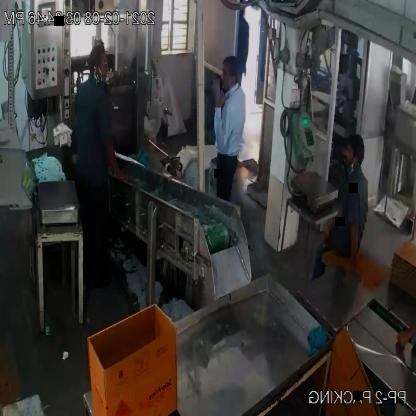no_glove: (318, 197, 343, 260), (104, 132, 130, 188), (346, 200, 363, 280), (211, 80, 228, 160), (388, 313, 416, 355)
